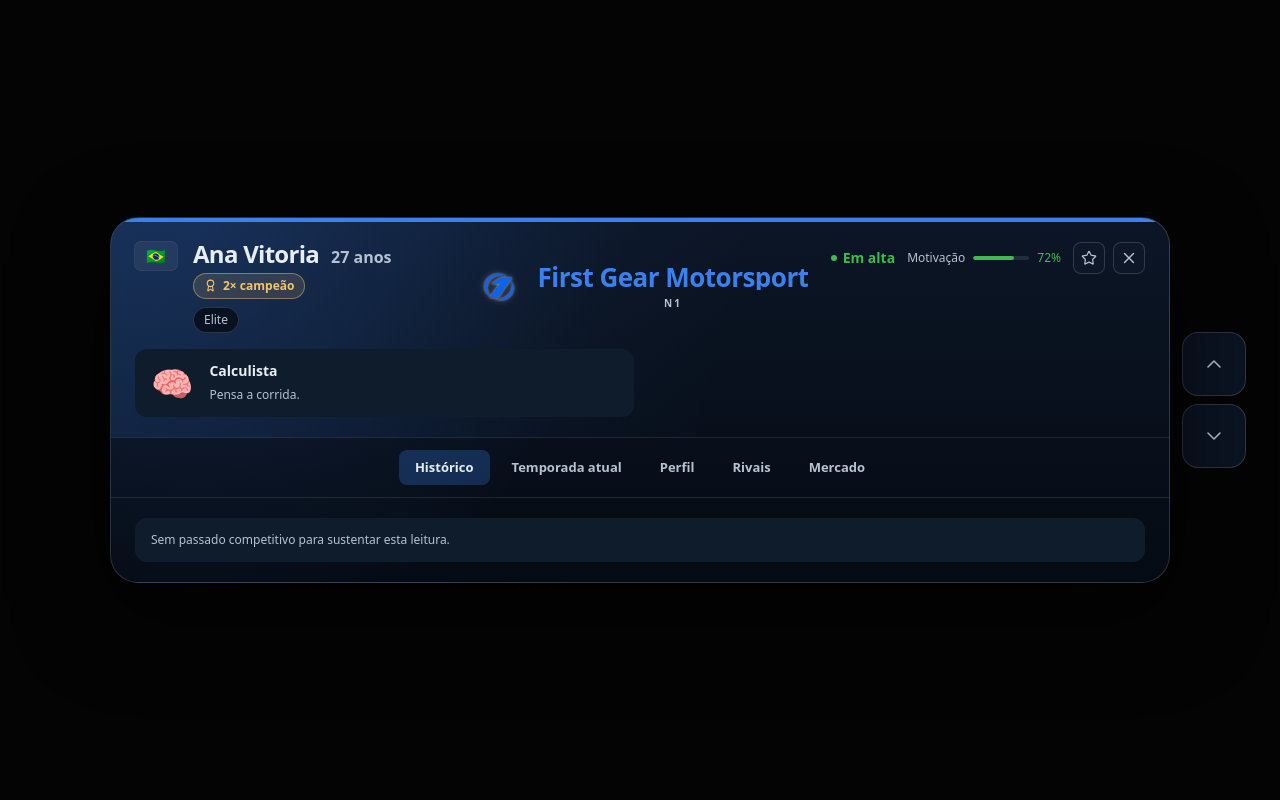
DriverDetailModalV2 — cabecalho, temporada e perfil › mostra o que um estreante TEM em vez de um vazio
This screenshot has width=1280, height=800.
Expected: the header with test id "driver-detail-hero" is shown, [111,222,1169,438]
Click the tab with test id "driver-detail-tab-temporada": (567, 468) [496,450,638,485]
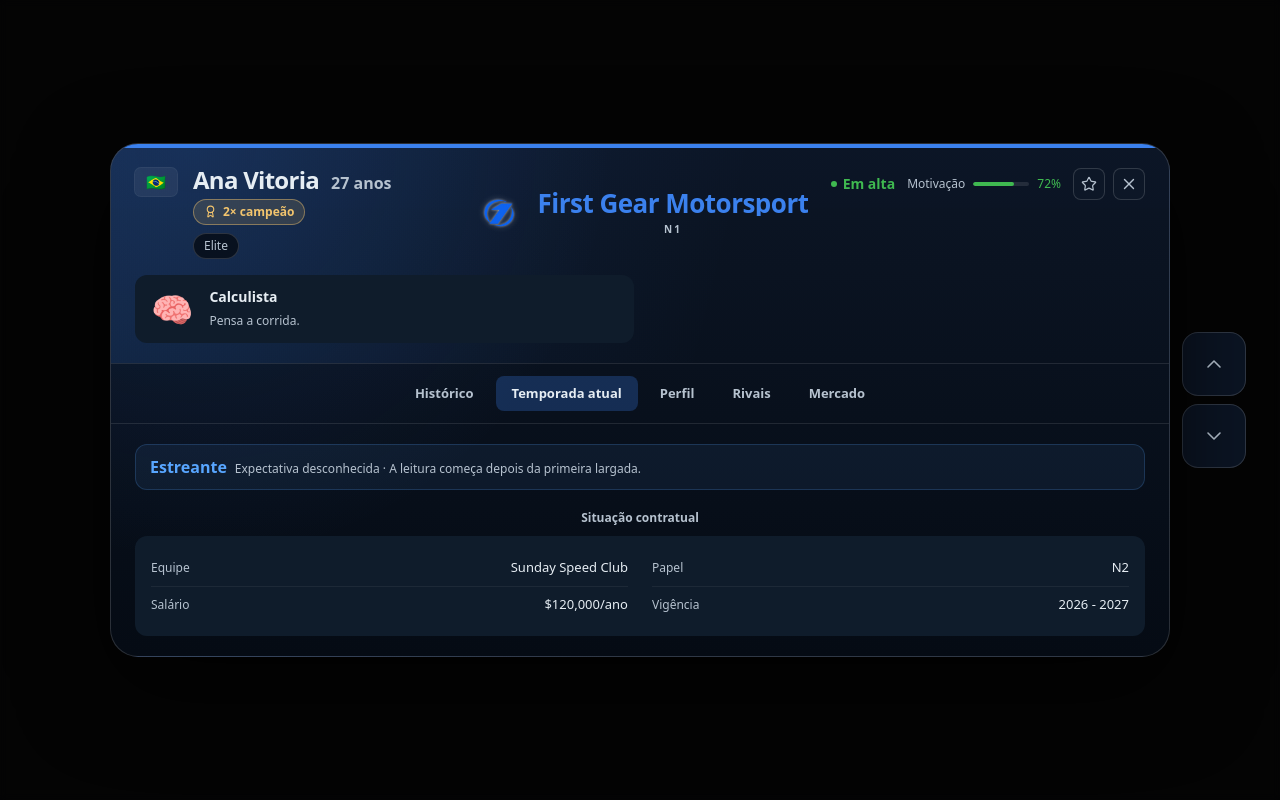
Expected: the dialog with test id "driver-detail-drawer" does not show "P1", [110,143,1170,657]
Expected: the element with test id "driver-detail-rookie-banner" is shown, [135,444,1145,490]
Expected: the text "Sunday Speed Club" is shown, [511,558,628,578]
